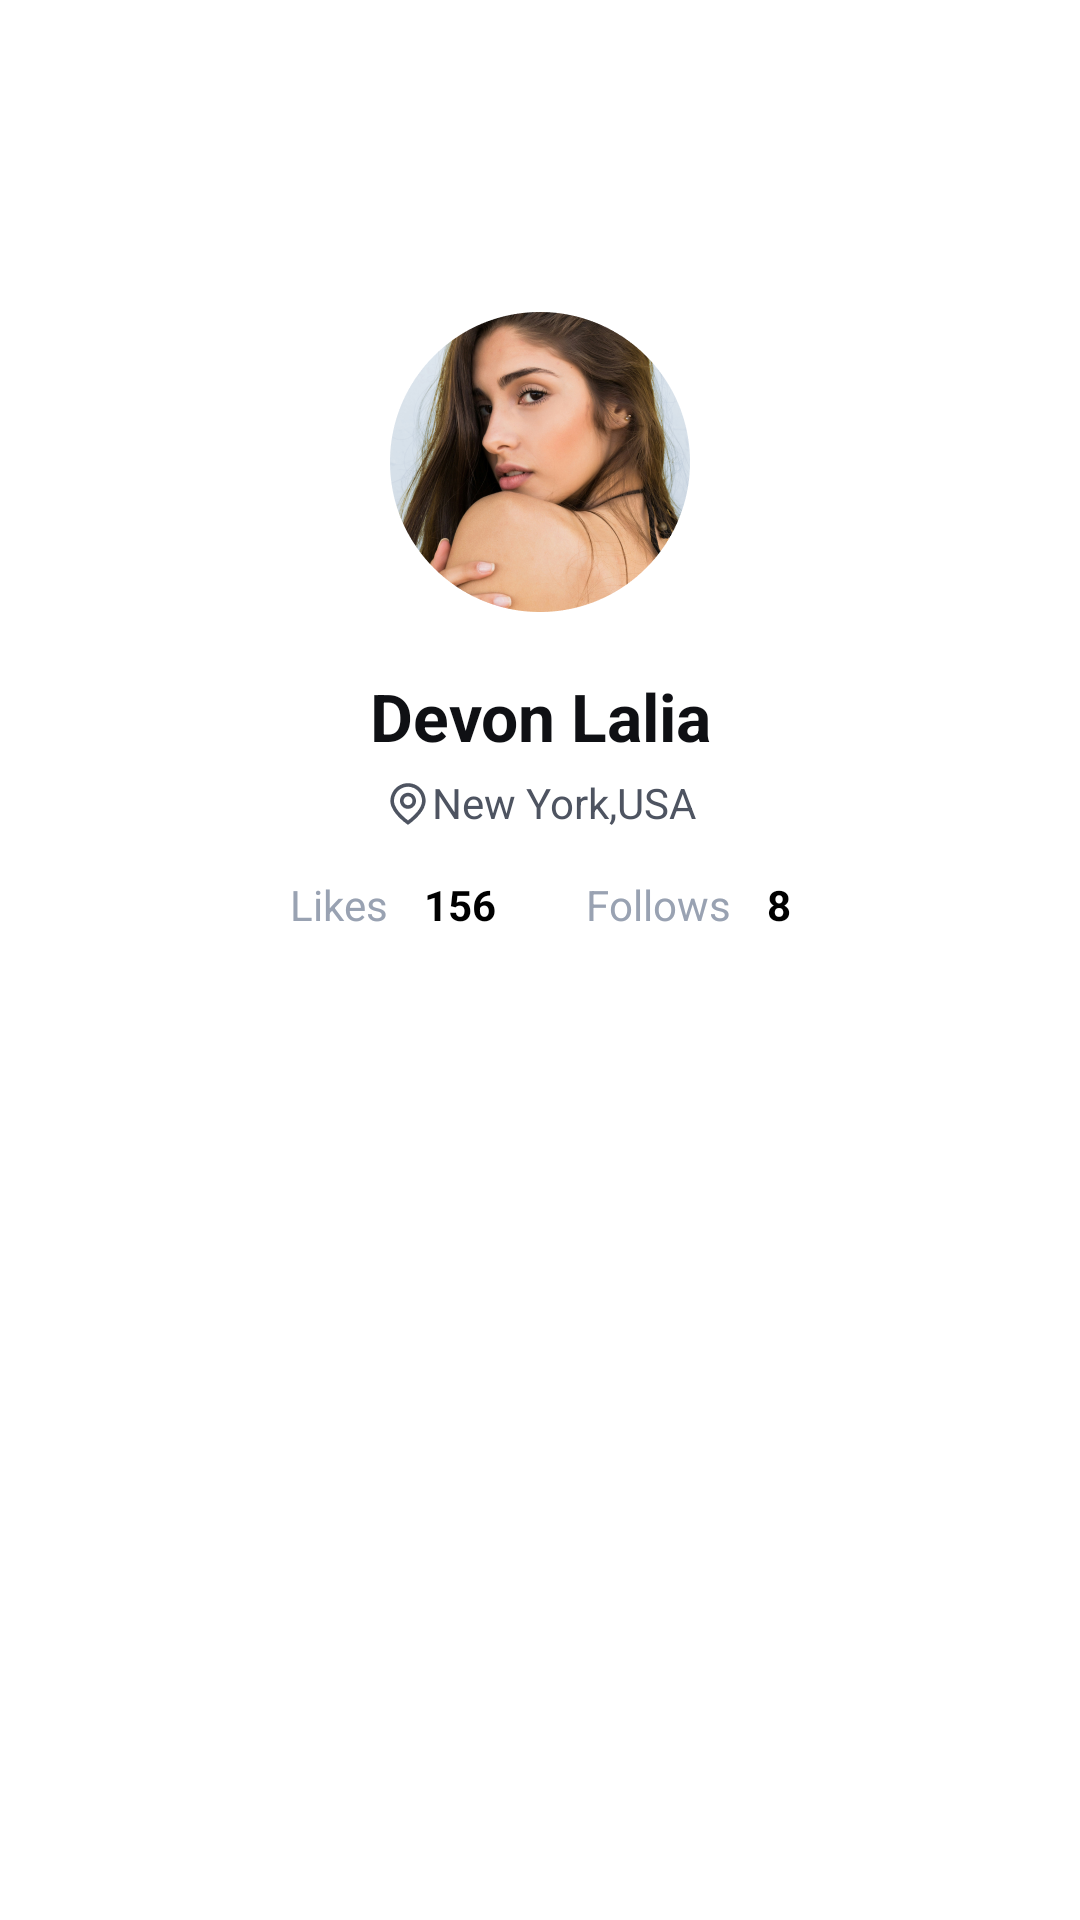

Locate icon controls on the screen. Image size 1080×1920, boxes as (x1, y1, x2, y2).
uikit location: (390, 783, 426, 825)
